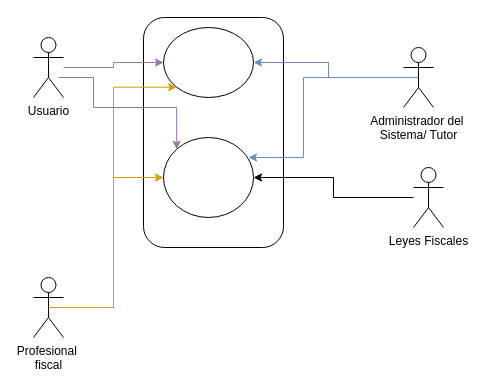
This 485x391 diagram has some shape labels left out. Each missing label, with the box of its shape:
Lección de contabilidad: (162, 26, 254, 98)
Lección Fiscal: (162, 136, 254, 218)
